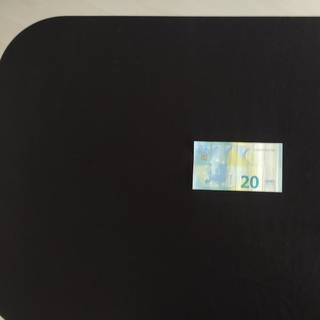20EUROBack: (192, 140, 282, 192)
